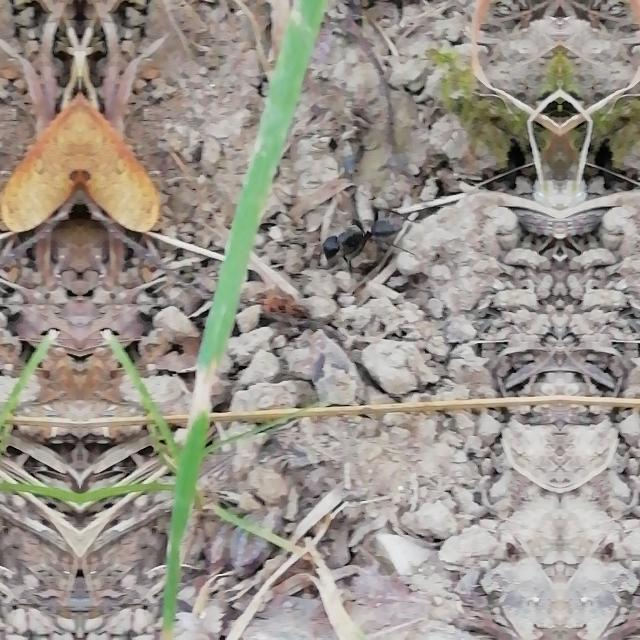Camponotus: (310, 192, 410, 278)
